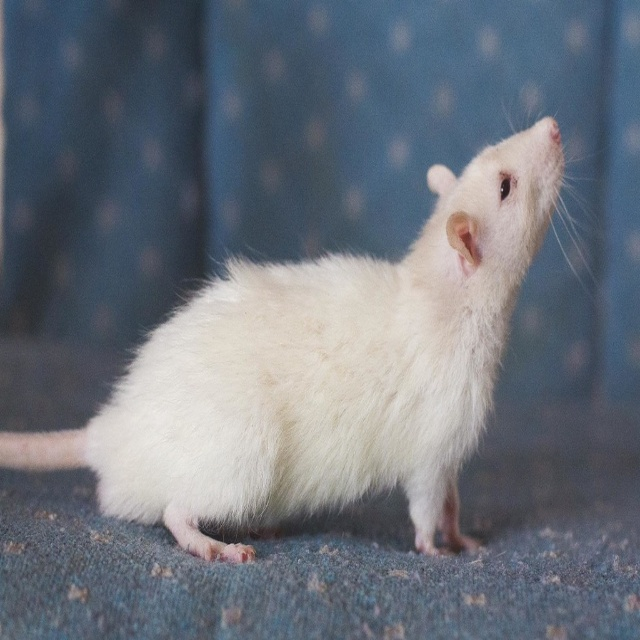Mouse: (0, 87, 609, 563)
